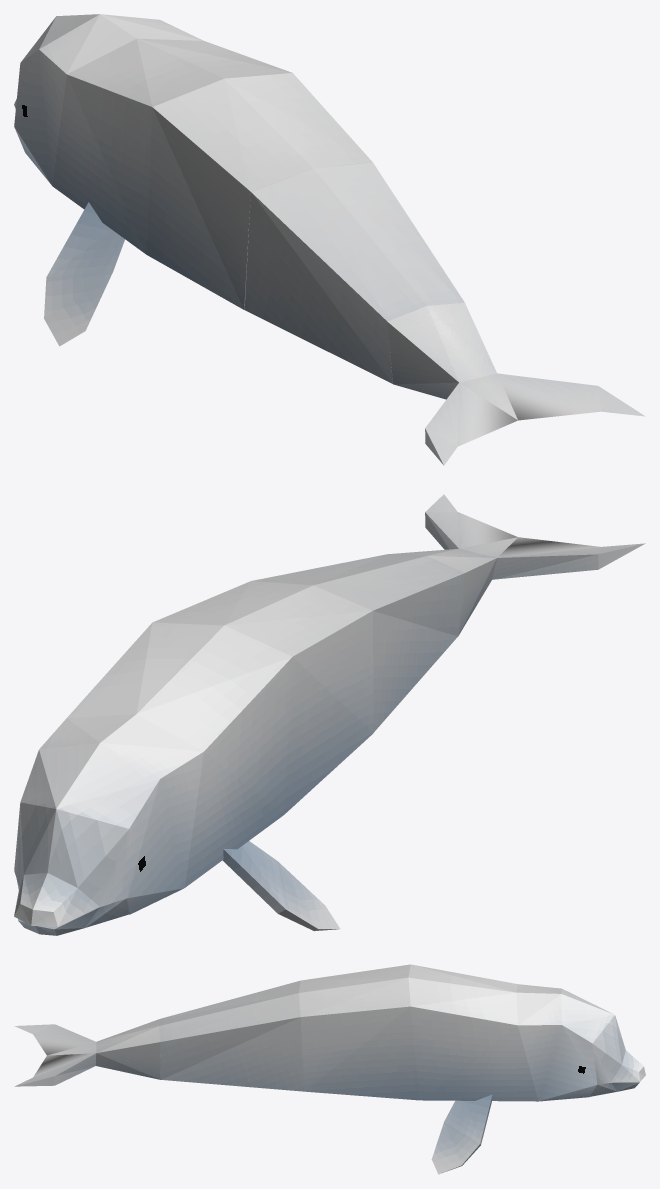
File: Beluga_Beluga.glb
The picture shows the model from 3 angles, top to bottom: view 1: azimuth 30°, elevation 25°; view 2: azimuth 150°, elevation 25°; view 3: azimuth 270°, elevation 25°; orthographic projection. The views are drawn at different scales.
Visible parts, largest first — view 1: Body, Tail1, Tail2; view 2: Body, Tail1, Tail2, Jaw; view 3: Body, Tail1, Tail2, Jaw.
Part boxes in pixels (<box>): Body: <box>14,14,372,346</box>; Tail1: <box>244,162,464,383</box>; Tail2: <box>387,302,645,465</box>; Body: <box>14,581,373,931</box>; Tail1: <box>252,554,464,732</box>; Tail2: <box>388,494,645,636</box>; Jaw: <box>16,879,128,935</box>; Body: <box>299,964,645,1174</box>; Tail1: <box>159,980,304,1091</box>; Tail2: <box>14,1019,160,1086</box>; Jaw: <box>589,1081,639,1096</box>.
Bounding box in the file's own units: 1.32 × 1.13 × 4.17.
1 material, 1 textured.
